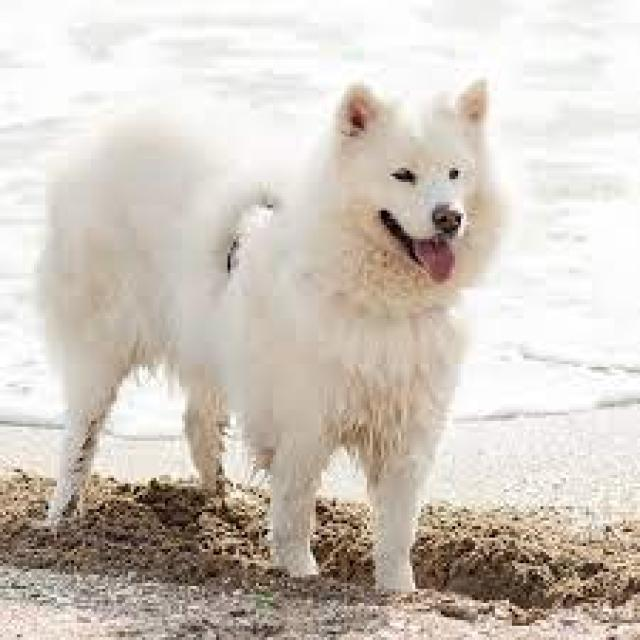dogs: (33, 70, 516, 596)
